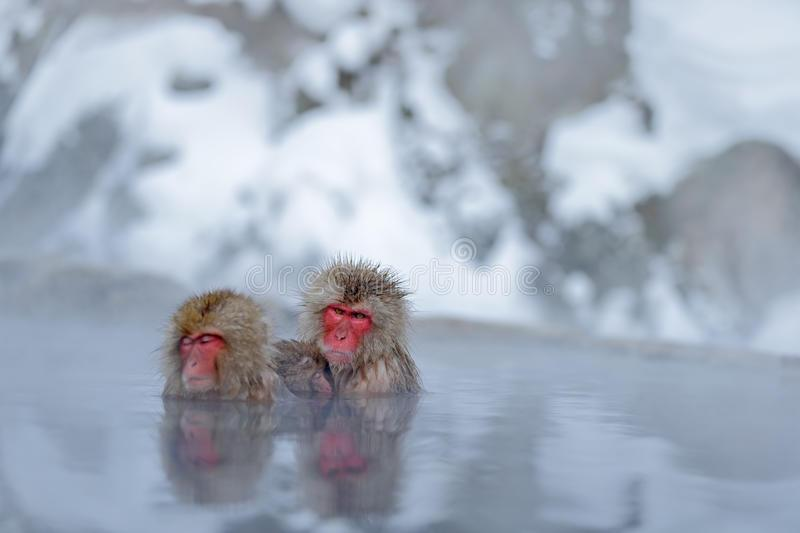monkey: (159, 262, 421, 518)
